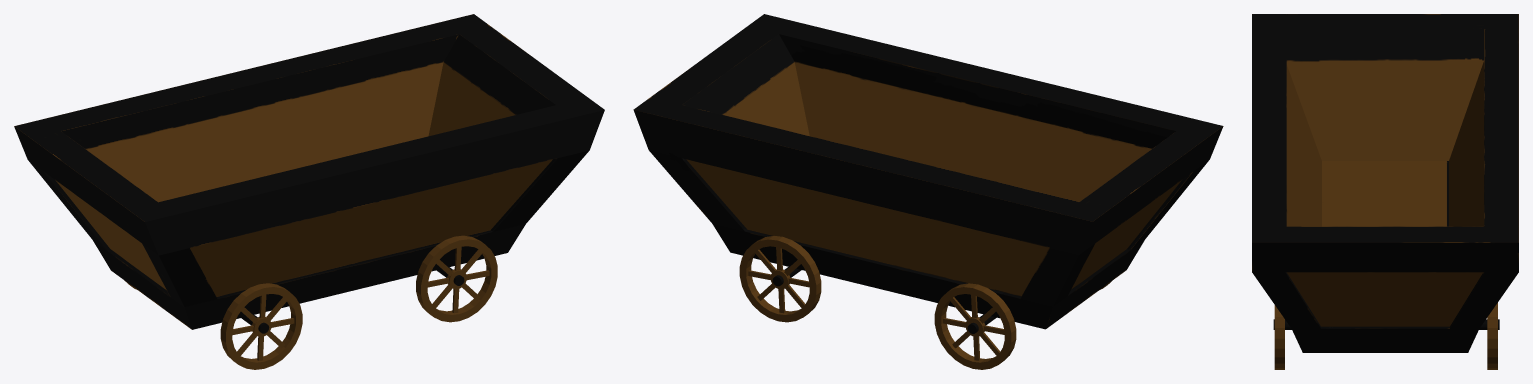
Rendered from Carreta.fbx.
3 renders of one model, left to right at view 1: azimuth 30°, elevation 25°; view 2: azimuth 150°, elevation 25°; view 3: azimuth 270°, elevation 25°, orthographic.
Visible parts, largest first — view 1: BaseCarreta, Rueda3.001, Rueda; view 2: BaseCarreta, Rueda4, Rueda2; view 3: BaseCarreta, Rueda2, Rueda.
Part boxes in pixels (x1=…): BaseCarreta: x1=14, y1=14, x2=604, y2=329; Rueda3.001: x1=220, y1=283, x2=302, y2=369; Rueda: x1=416, y1=235, x2=497, y2=322; BaseCarreta: x1=633, y1=14, x2=1223, y2=329; Rueda4: x1=934, y1=283, x2=1016, y2=369; Rueda2: x1=739, y1=236, x2=821, y2=322; BaseCarreta: x1=1252, y1=14, x2=1518, y2=352; Rueda2: x1=1487, y1=303, x2=1497, y2=369; Rueda: x1=1274, y1=305, x2=1284, y2=369.
Bounding box in the file's own units: 203 × 78.61 × 100.
Materials: 7 (7 with a texture image).
